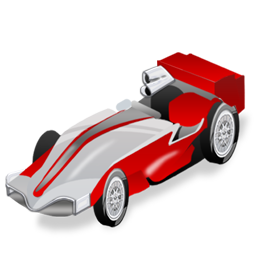car: (4, 50, 248, 229)
